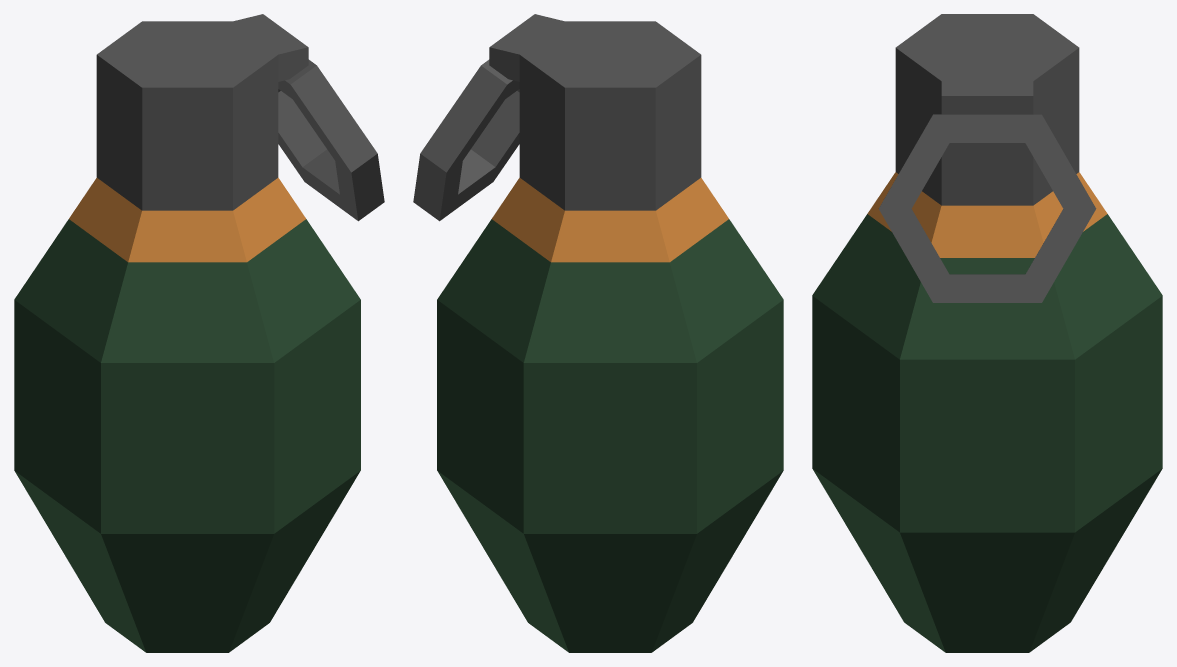
Rendered from grenade_1.fbx.
The picture shows the model from 3 angles, left to right: view 1: azimuth 30°, elevation 25°; view 2: azimuth 150°, elevation 25°; view 3: azimuth 270°, elevation 25°; orthographic projection.
Visible parts, largest first — view 1: body.007, ring; view 2: body.007, ring; view 3: body.007, ring.
Boxes of the visible parts, x1,y1,x2,y2 form: body.007: [14, 14, 360, 652]; ring: [278, 59, 384, 221]; body.007: [437, 14, 783, 652]; ring: [413, 59, 519, 221]; body.007: [812, 14, 1162, 652]; ring: [878, 114, 1096, 302].
Bounding box in the file's own units: 77.12 × 77.13 × 140.
